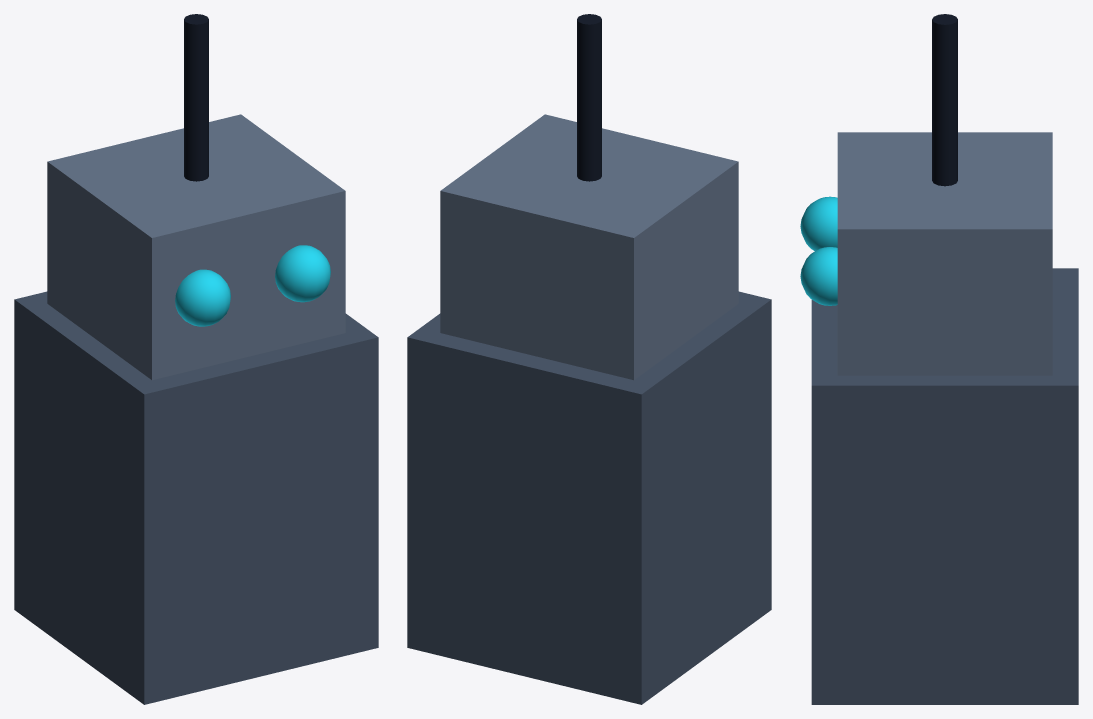
Rendered from custom-robot.glb.
3 views of the same model, side by side, from view 1: azimuth 30°, elevation 25°; view 2: azimuth 150°, elevation 25°; view 3: azimuth 270°, elevation 25° (orthographic). The views are drawn at different scales.
Bounding box in the file's own units: 0.75 × 1.86 × 0.75.
